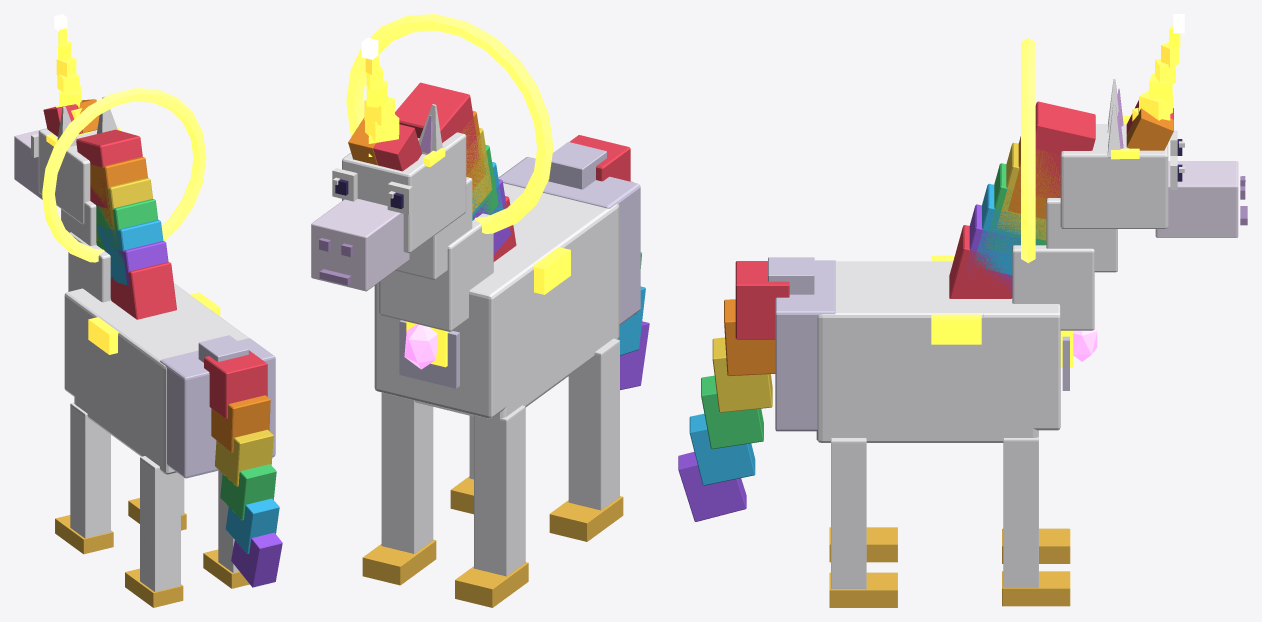
The model's file is unicorn.glb.
The picture shows the model from 3 angles, left to right: view 1: azimuth 30°, elevation 25°; view 2: azimuth 150°, elevation 25°; view 3: azimuth 270°, elevation 25°; orthographic projection. The views are drawn at different scales.
Visible parts, largest first — view 1: body, tail, head, leg.BR, leg.FR, leg.BL, leg.FL; view 2: body, head, leg.FR, leg.FL, leg.BR, tail, leg.BL, ear.R; view 3: body, head, tail, leg.BL, leg.FL, leg.BR, leg.FR.
Boxes of the visible parts, x1,y1,x2,y2 form: body: [61, 129, 275, 478]; tail: [198, 335, 282, 587]; head: [14, 14, 206, 262]; leg.BR: [125, 456, 183, 607]; leg.FR: [55, 402, 113, 554]; leg.BL: [203, 470, 249, 588]; leg.FL: [128, 475, 186, 530]; body: [374, 82, 640, 420]; head: [311, 14, 553, 291]; leg.FR: [455, 405, 528, 607]; leg.FL: [362, 392, 436, 585]; leg.BR: [549, 338, 623, 541]; tail: [548, 135, 649, 389]; leg.BL: [450, 416, 473, 514]; ear.R: [418, 104, 442, 154]; body: [775, 101, 1117, 442]; head: [1021, 14, 1247, 263]; tail: [678, 257, 814, 521]; leg.BL: [829, 438, 897, 607]; leg.FL: [1002, 437, 1070, 606]; leg.BR: [829, 527, 897, 562]; leg.FR: [1002, 528, 1070, 563].
Size of the model in its own units: 0.3647 by 1 by 0.921.
